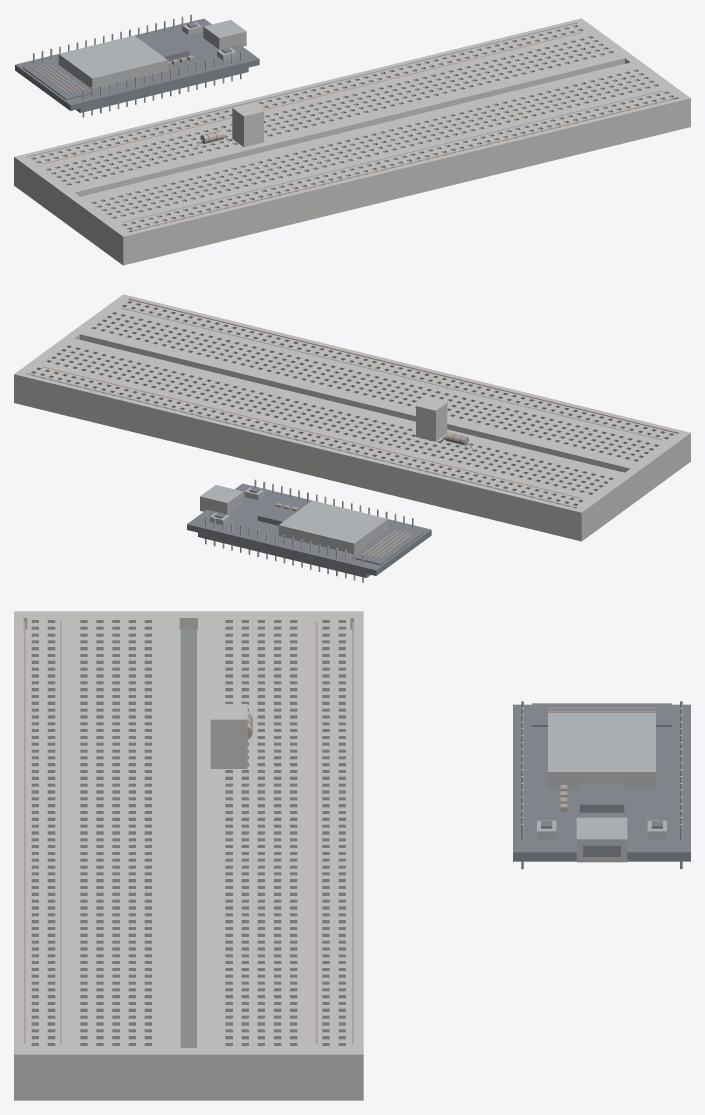
The model's file is step-2.glb.
3 renders of one model, top to bottom at view 1: azimuth 30°, elevation 25°; view 2: azimuth 150°, elevation 25°; view 3: azimuth 270°, elevation 25°, orthographic. The views are drawn at different scales.
Parts seen in each view (by area): view 1: breadboard__mesh, arduino__mesh, rgb_led__mesh; view 2: breadboard__mesh, arduino__mesh, rgb_led__mesh; view 3: breadboard__mesh, arduino__mesh, rgb_led__mesh.
Part boxes in pixels (left/top/right/bottom): breadboard__mesh: left=14, top=18, right=690, bottom=265; arduino__mesh: left=15, top=14, right=259, bottom=117; rgb_led__mesh: left=232, top=103, right=263, bottom=147; breadboard__mesh: left=14, top=294, right=690, bottom=541; arduino__mesh: left=187, top=479, right=431, bottom=582; rgb_led__mesh: left=416, top=397, right=447, bottom=441; breadboard__mesh: left=14, top=611, right=363, bottom=1100; arduino__mesh: left=513, top=701, right=690, bottom=869; rgb_led__mesh: left=210, top=704, right=247, bottom=768.
Size of the model in its own units: 0.165 by 0.0166 by 0.1065.
